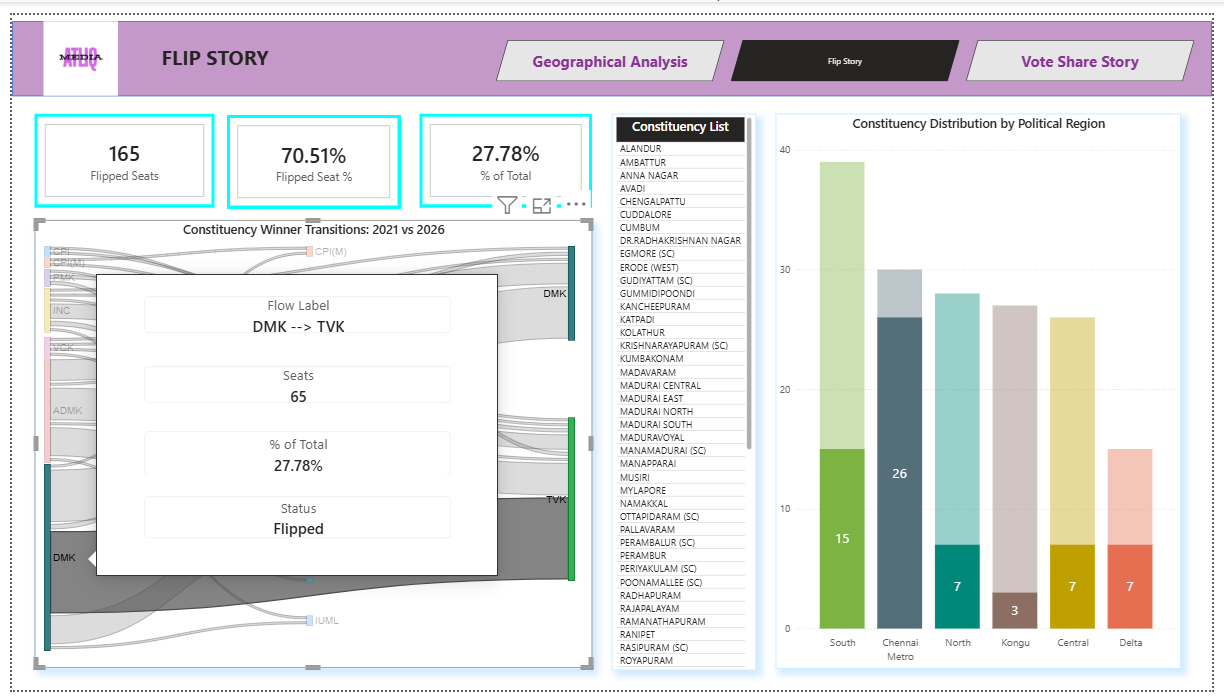

What the dashboard file says about the page in this screenshot:
{"tool":"powerbi","page":{"name":"Flip Story","canvas":[1920,1080],"ordinal":1},"visuals":[{"type":"shape","box":[0,10,1920,120],"z":0},{"type":"cardVisual","fields":{"Data":["Measures (2).Flipped Seats"]},"box":[36,158,288,150],"z":1000},{"type":"sankey02300D1BE6F5427989F3DE31CCA9E0F32020","title":"Constituency Winner Transitions: 2021 vs 2026","fields":{"Source":["tn_election_analysis mart_constituency_flips.winner_2021"],"Destination":["tn_election_analysis mart_constituency_flips.winner_2026"],"Weight":["CountNonNull(tn_election_analysis mart_constituency_flips.constituency_name)"]},"box":[36,328,892,718],"z":2000},{"type":"columnChart","title":"Constituency Distribution by Political Region","fields":{"Y":["Measures (2).Count of Constituency"],"Category":["dim_constituency.region"]},"box":[1222,158,648,888],"z":3000},{"type":"textbox","box":[212,40,226,70],"z":4000},{"type":"cardVisual","fields":{"Data":["Measures (2).Flipped Seat %"]},"box":[344,160,278,150],"z":5000},{"type":"cardVisual","fields":{"Data":["Measures (2).% of Total"]},"box":[652,158,276,150],"z":6000},{"type":"tableEx","fields":{"Values":["tn_election_analysis mart_constituency_flips.constituency_name"]},"box":[960,158,230,890],"z":7000},{"type":"pageNavigator","box":[774,40,1118,66],"z":8000},{"type":"image","box":[43.4,10.9,132.1,119.4],"z":8001}]}

Visuals, with their boxes in screenshot pixels (x1, y1, x2, y2), scaled from the page's 1920x1080 canvas onto the 1224x697 screenshot:
shape: Rect(0, 6, 1223, 84)
cardVisual - Measures (2).Flipped Seats: Rect(23, 102, 207, 199)
"Constituency Winner Transitions: 2021 vs 2026" sankey02300D1BE6F5427989F3DE31CCA9E0F32020: Rect(23, 212, 592, 675)
"Constituency Distribution by Political Region" columnChart: Rect(779, 102, 1192, 675)
textbox: Rect(135, 26, 279, 71)
cardVisual - Measures (2).Flipped Seat %: Rect(219, 103, 397, 200)
cardVisual - Measures (2).% of Total: Rect(416, 102, 592, 199)
tableEx - tn_election_analysis mart_constituency_flips.constituency_name: Rect(612, 102, 759, 676)
pageNavigator: Rect(493, 26, 1206, 68)
image: Rect(28, 7, 112, 84)
